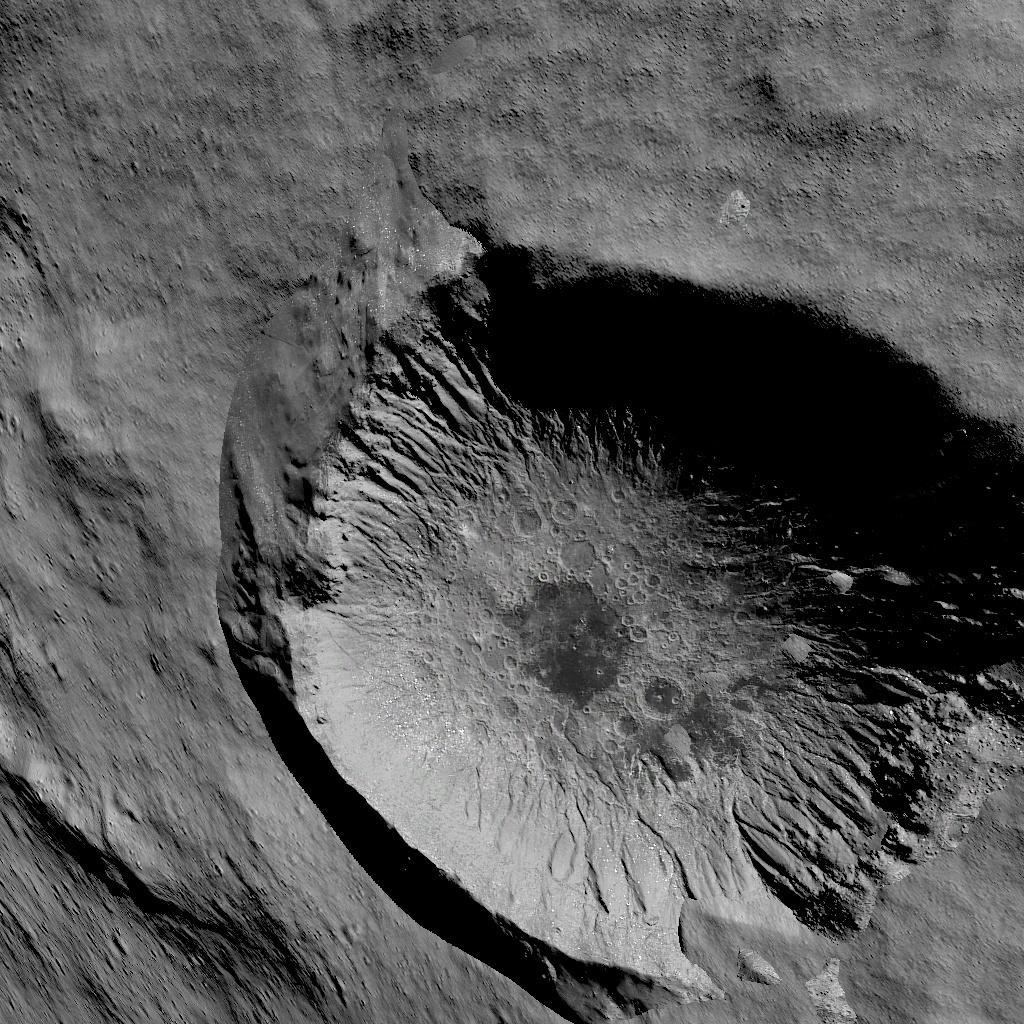Crater: (221, 210, 1024, 1024)
Plan surface: (225, 4, 1024, 194), (0, 0, 201, 625)
